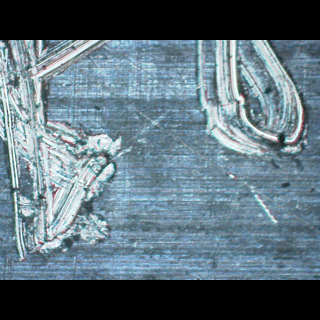d: (0, 39, 132, 267), (181, 39, 314, 165)
